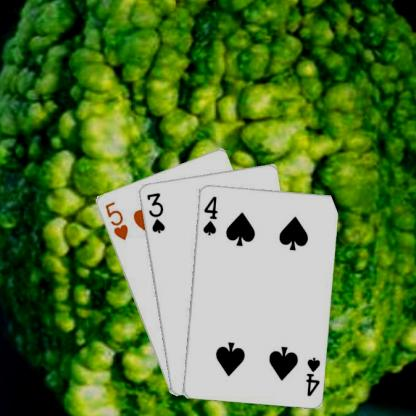3S: (144, 189, 166, 234)
4S: (303, 354, 322, 398), (200, 194, 218, 236)
5H: (102, 199, 129, 241)
